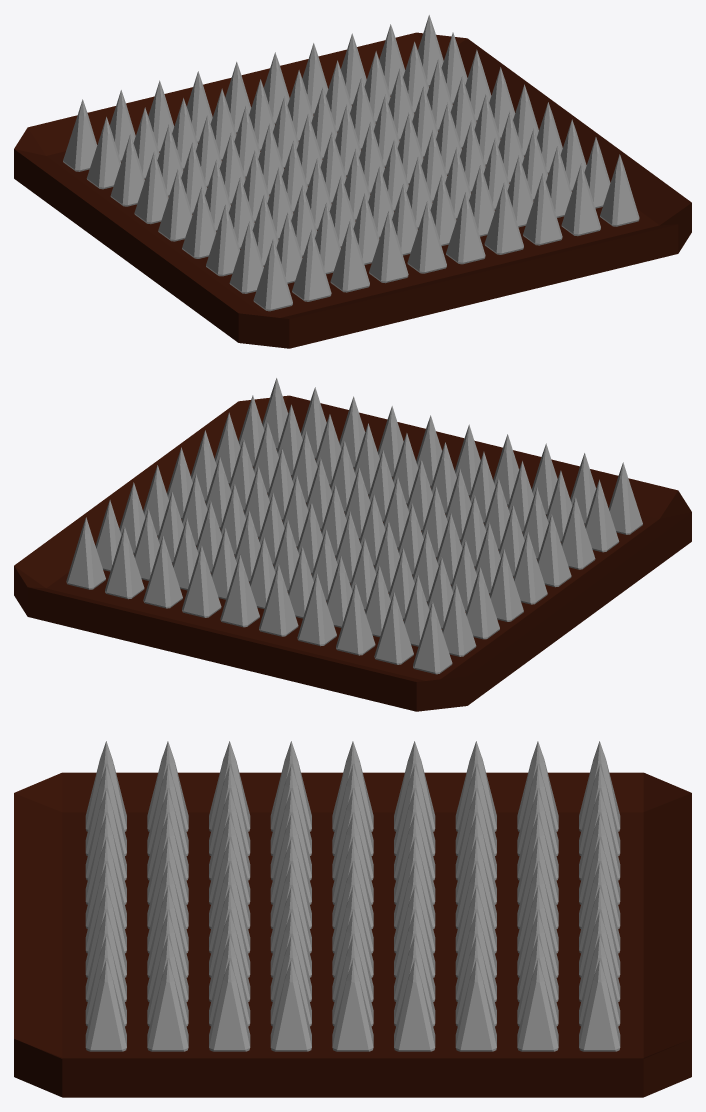
The model's file is SpikeBase.fbx.
The picture shows the model from 3 angles, top to bottom: view 1: azimuth 30°, elevation 25°; view 2: azimuth 150°, elevation 25°; view 3: azimuth 270°, elevation 25°; orthographic projection. The views are drawn at different scales.
Parts seen in each view (by area): view 1: Spikes; view 2: Spikes; view 3: Spikes.
Part boxes in pixels (x1,y1,x2,y2): Spikes: (14,15,691,348); Spikes: (14,378,691,711); Spikes: (14,741,691,1097).
Bounding box in the file's own units: 210 × 36.33 × 210.
